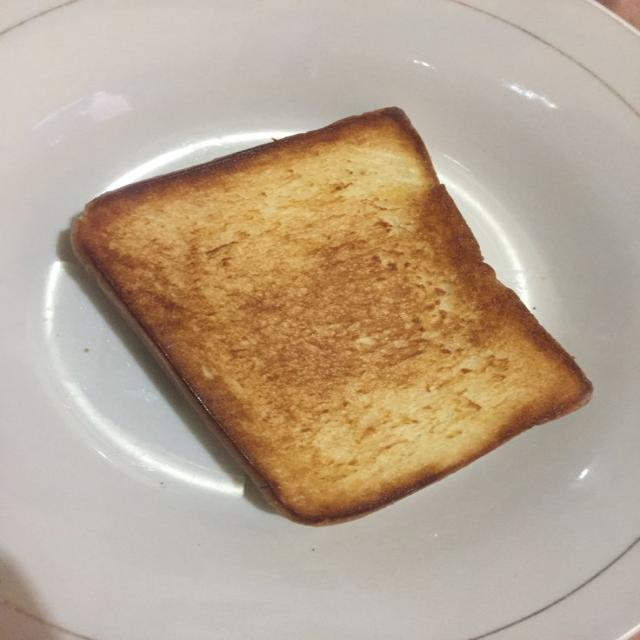toast bread: (73, 108, 591, 524)
